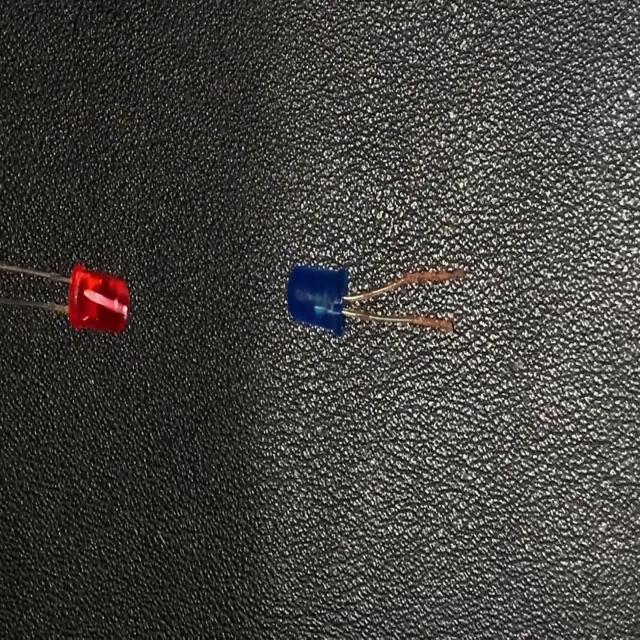LED: (285, 261, 467, 340), (0, 255, 130, 337)
rust: (404, 265, 464, 288), (408, 308, 454, 332)
